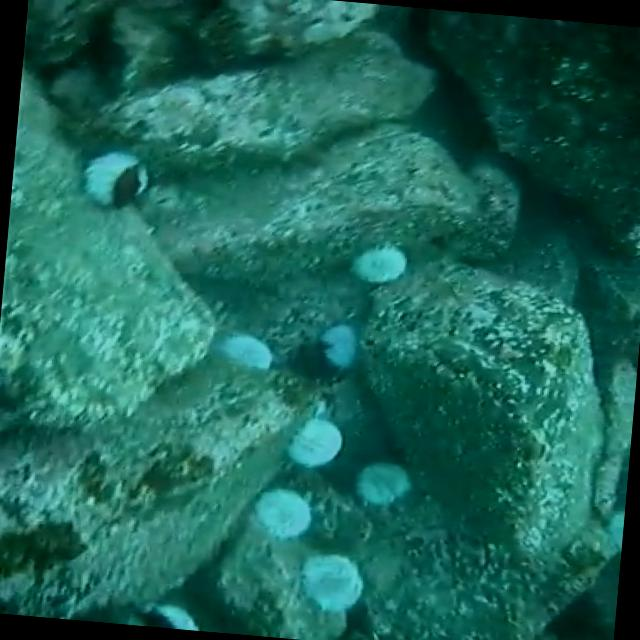Deniz Kestanesi: (292, 545, 374, 627), (65, 147, 152, 206), (198, 320, 284, 377), (246, 482, 322, 539), (282, 412, 348, 477), (337, 233, 412, 289), (349, 459, 422, 513), (307, 317, 372, 371)
